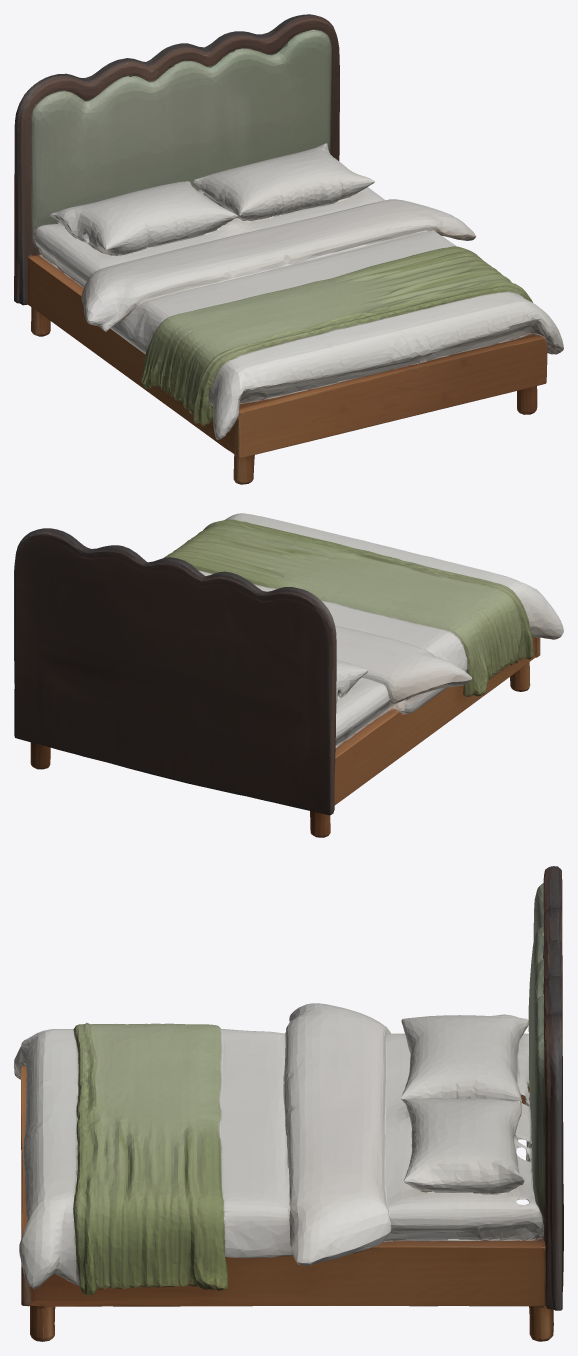
3 renders of one model, top to bottom at view 1: azimuth 30°, elevation 25°; view 2: azimuth 150°, elevation 25°; view 3: azimuth 270°, elevation 25°, orthographic. The views are drawn at different scales.
Visible parts, largest first — view 1: world; view 2: world; view 3: world.
Part boxes in pixels (x1,y1,x2,y2): world: [14, 14, 563, 484]; world: [14, 513, 563, 837]; world: [14, 866, 563, 1341].
Size of the model in its own units: 1 by 0.6105 by 0.9881.
1 material, 1 textured.
